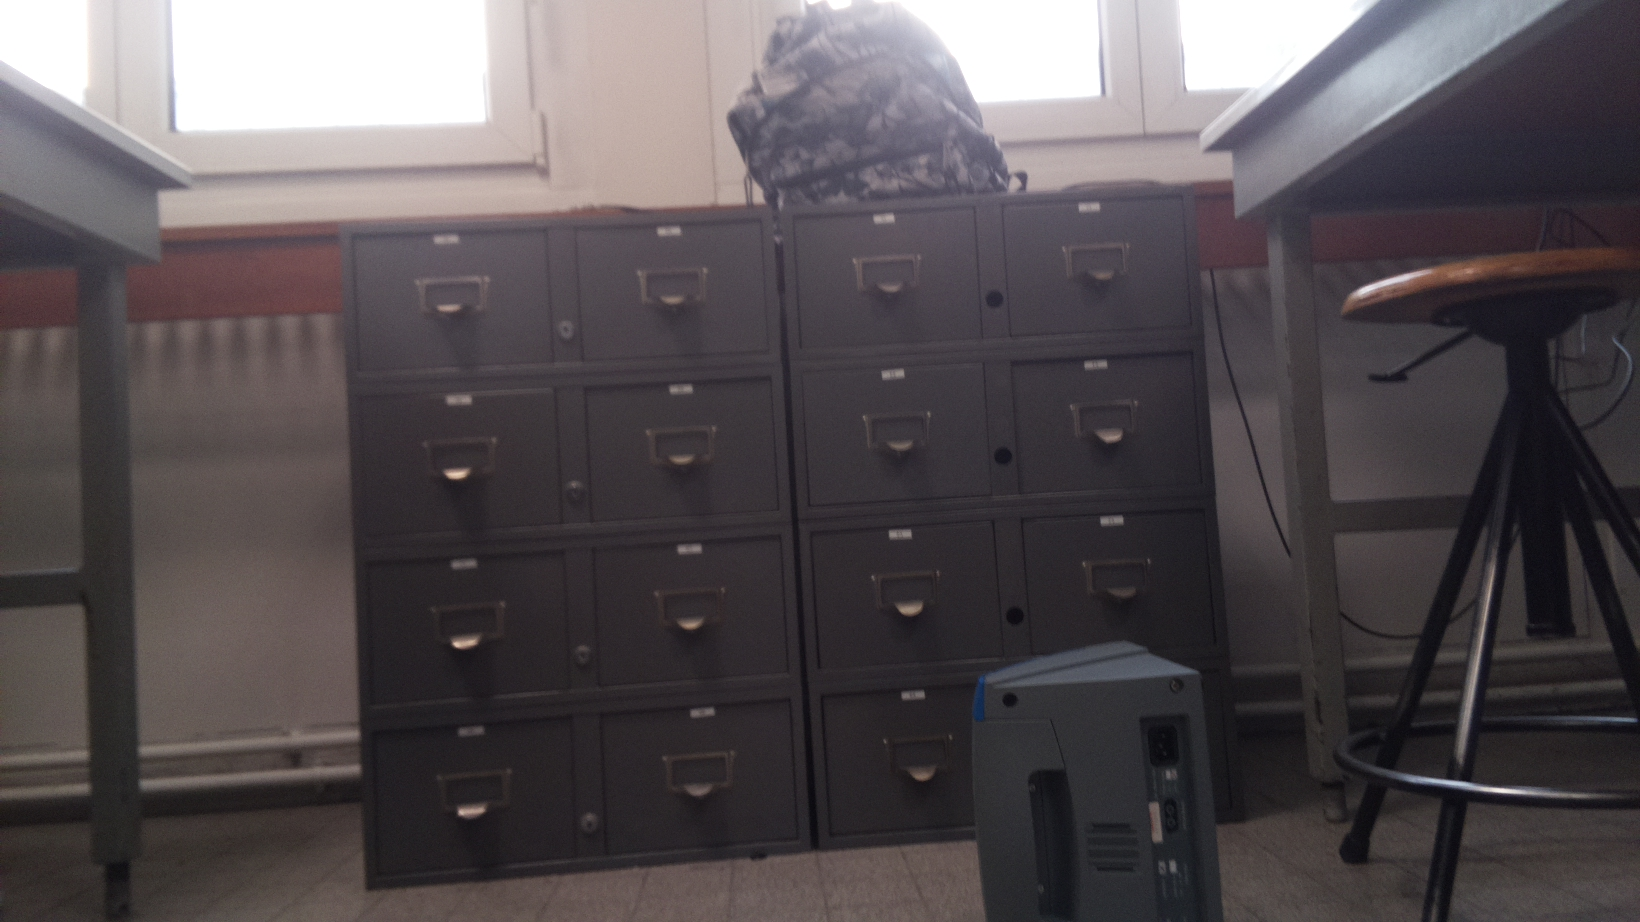big: (724, 1, 1043, 204)
medium: (965, 635, 1227, 922)
